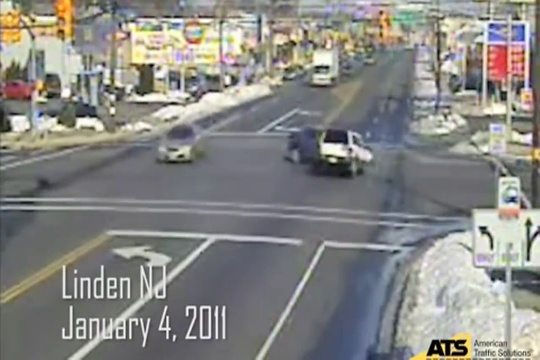car: (319, 130, 383, 178), (152, 126, 206, 166), (310, 45, 342, 94), (284, 124, 317, 159)
